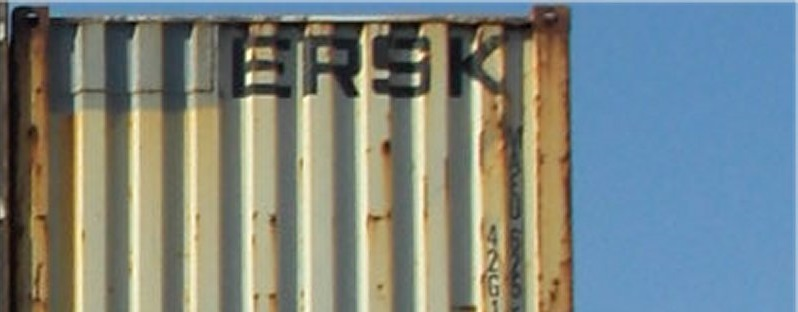container_no_door: (16, 4, 580, 312)
